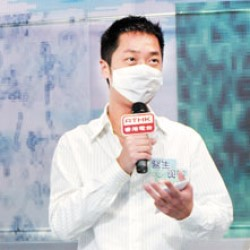mask: (100, 59, 168, 110)
